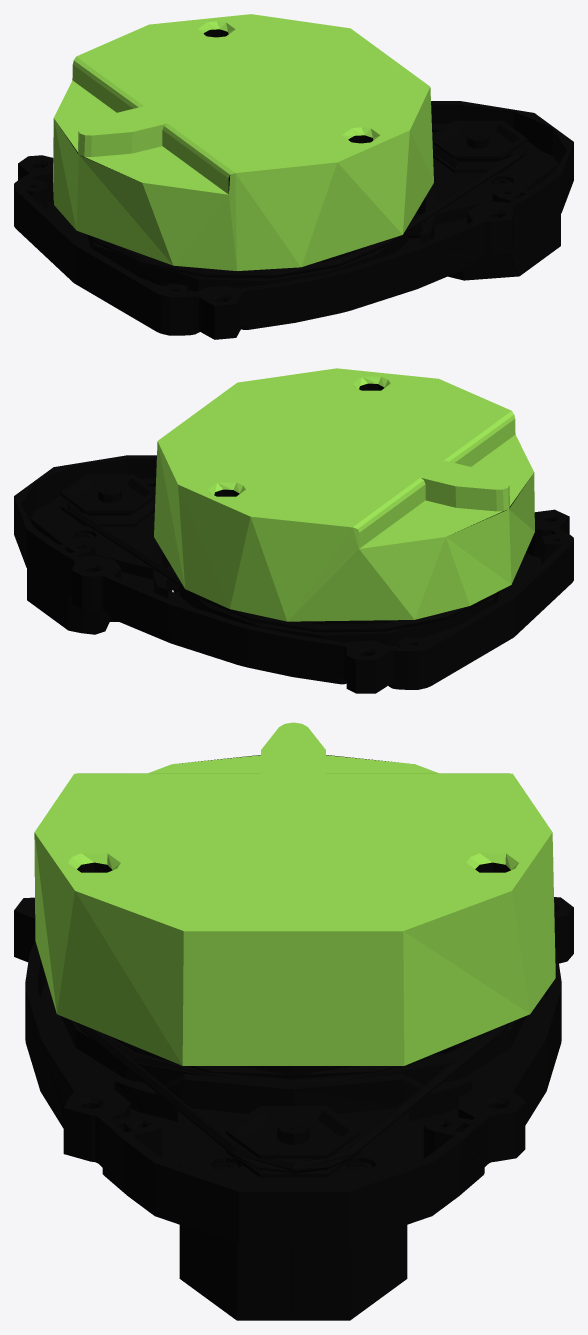
The model's file is lds_v2.dae.
3 views of the same model, one above another, from view 1: azimuth 30°, elevation 25°; view 2: azimuth 150°, elevation 25°; view 3: azimuth 270°, elevation 25° (orthographic). The views are drawn at different scales.
Parts seen in each view (by area): view 1: lds_1; view 2: lds_1; view 3: lds_1.
Boxes of the visible parts, box(x1,y1,x2,y2) form: lds_1: box(14, 14, 573, 339); lds_1: box(14, 368, 573, 693); lds_1: box(14, 722, 573, 1320).
Bounding box in the file's own units: 93.85 × 68.88 × 39.2.
1 material, 1 textured.
